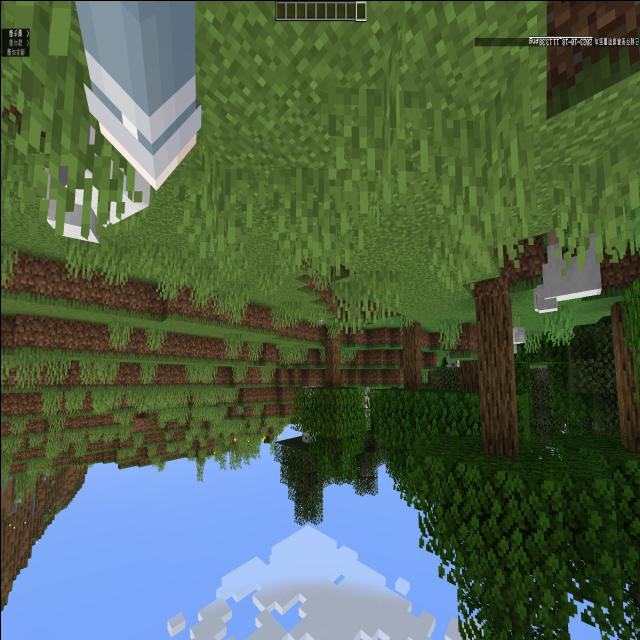chicken: (506, 315, 527, 356)
